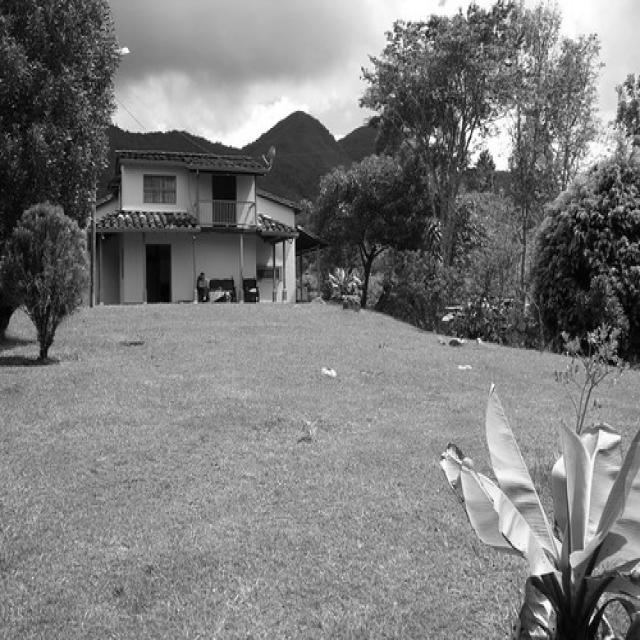Fachada: (91, 150, 325, 302)
